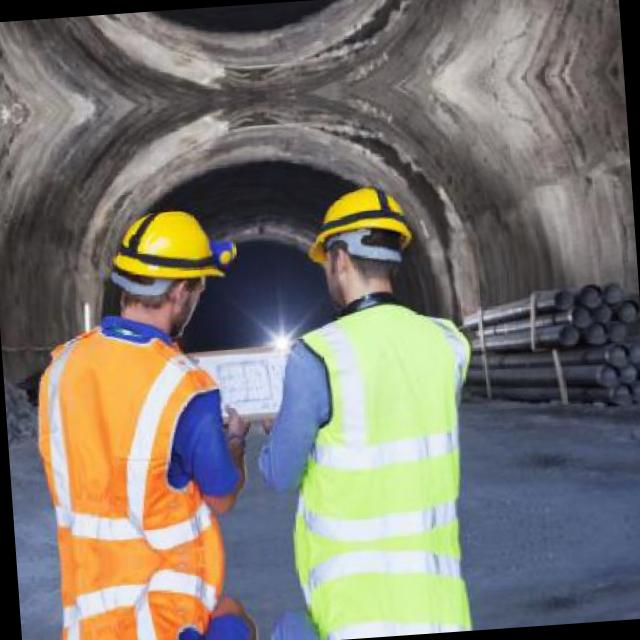helmet: (100, 195, 230, 340), (298, 174, 428, 315)
